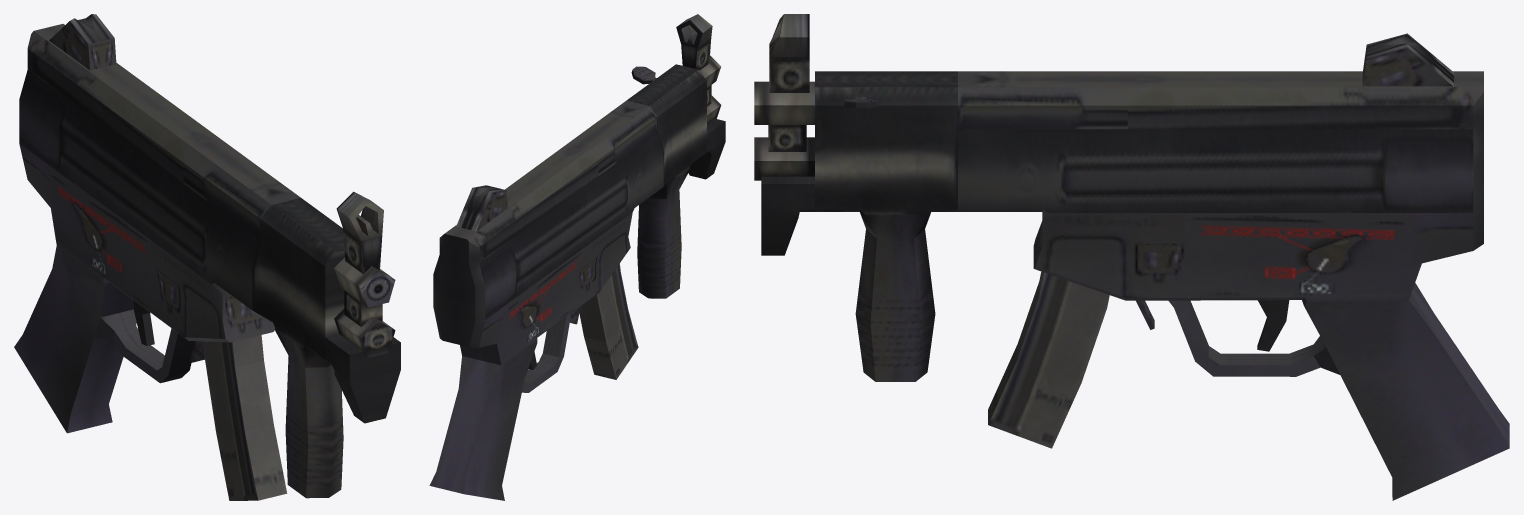
File: MP5k_glb.glb
3 renders of one model, left to right at view 1: azimuth 30°, elevation 25°; view 2: azimuth 150°, elevation 25°; view 3: azimuth 270°, elevation 25°, orthographic. The views are drawn at different scales.
Parts seen in each view (by area): view 1: Body, Mag, Trigger; view 2: Body, Mag, Charging Handle; view 3: Body, Mag, Trigger.
Boxes of the visible parts, box(x1,y1,x2,y2) form: Body: box(14, 14, 400, 498); Mag: box(203, 335, 287, 500); Trigger: box(133, 300, 154, 345); Body: box(429, 14, 725, 500); Mag: box(579, 263, 638, 379); Charging Handle: box(631, 66, 656, 84); Body: box(754, 14, 1509, 500); Mag: box(988, 271, 1109, 448); Trigger: box(1257, 300, 1289, 351).
Size of the model in its own units: 0.3731 by 1.83 by 2.64.
Materials: 1 (1 with a texture image).
